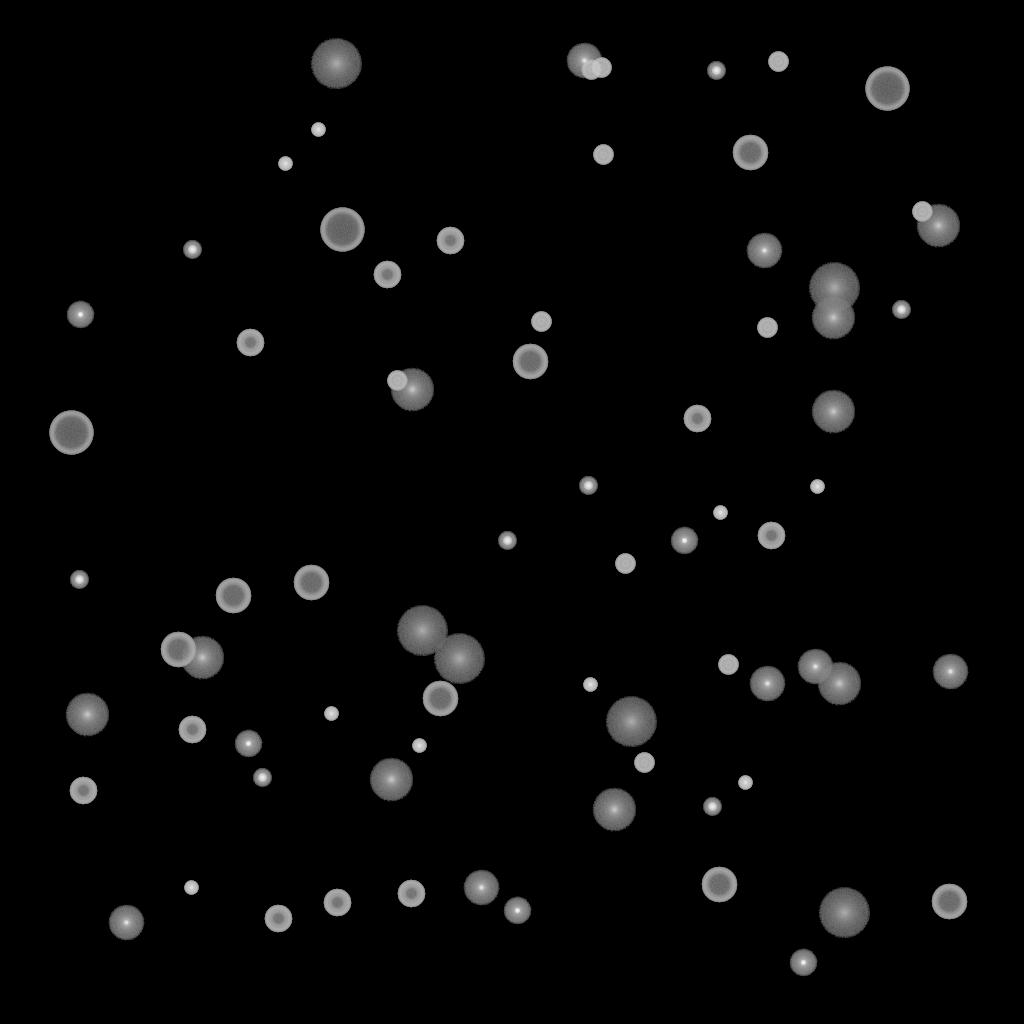depth:-10: (234, 730, 262, 758), (503, 897, 531, 925), (789, 949, 817, 977), (670, 527, 698, 555), (66, 301, 94, 329)
depth:-20: (707, 62, 725, 80), (892, 301, 910, 319), (579, 477, 597, 495), (183, 241, 201, 259), (703, 798, 721, 816), (498, 532, 516, 550), (253, 769, 271, 787), (70, 571, 88, 589)
depth:-30: (278, 157, 292, 171), (583, 678, 597, 692), (713, 506, 727, 520), (810, 480, 824, 494), (311, 123, 325, 137), (412, 739, 426, 753), (324, 707, 338, 721), (184, 881, 198, 895), (738, 776, 752, 790)
depth:-40: (634, 753, 654, 773), (768, 52, 788, 72), (757, 318, 777, 338), (718, 655, 738, 675), (387, 371, 407, 391), (591, 58, 611, 78), (581, 60, 601, 80), (531, 312, 551, 332), (912, 202, 932, 222), (615, 554, 635, 574), (593, 145, 613, 165)
depth:-50: (236, 329, 264, 357), (397, 880, 425, 908), (264, 905, 292, 933), (436, 227, 464, 255), (373, 261, 401, 289), (757, 522, 785, 550), (69, 777, 97, 805), (683, 405, 711, 433), (178, 716, 206, 744), (323, 889, 351, 917)
depth:-60: (931, 884, 967, 920), (422, 681, 458, 717), (160, 632, 196, 668), (215, 578, 251, 614), (512, 344, 548, 380), (732, 135, 768, 171), (701, 867, 737, 903), (293, 565, 329, 601)
depth:-70: (320, 208, 364, 252), (865, 67, 909, 111), (49, 411, 93, 455)
depth:0: (932, 654, 968, 690), (746, 233, 782, 269), (797, 649, 833, 685), (108, 905, 144, 941), (749, 666, 785, 702), (463, 870, 499, 906), (566, 43, 602, 79)
depth:10: (180, 636, 224, 680), (916, 204, 960, 248), (369, 758, 413, 802), (592, 788, 636, 832), (65, 693, 109, 737), (817, 662, 861, 706), (811, 296, 855, 340), (811, 390, 855, 434), (390, 368, 434, 412)
depth:20: (310, 39, 362, 89), (818, 888, 870, 938), (396, 606, 448, 656), (808, 263, 860, 313), (605, 697, 657, 747), (433, 634, 485, 684)
